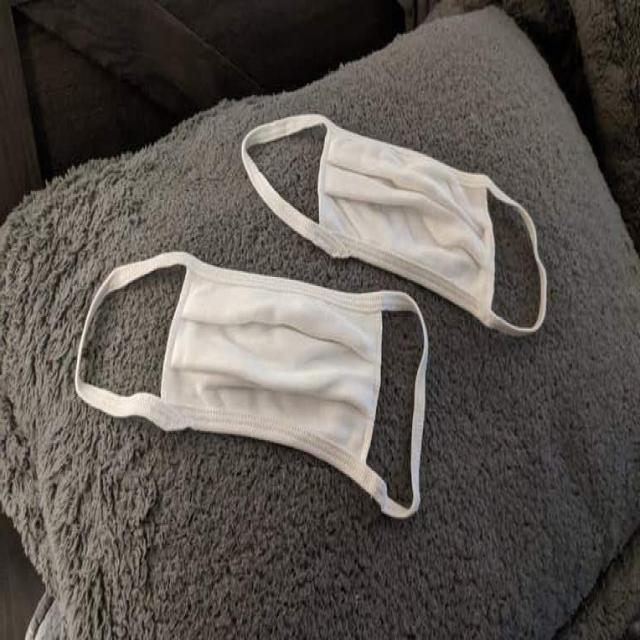face mask: (78, 245, 438, 512), (239, 89, 553, 351)
